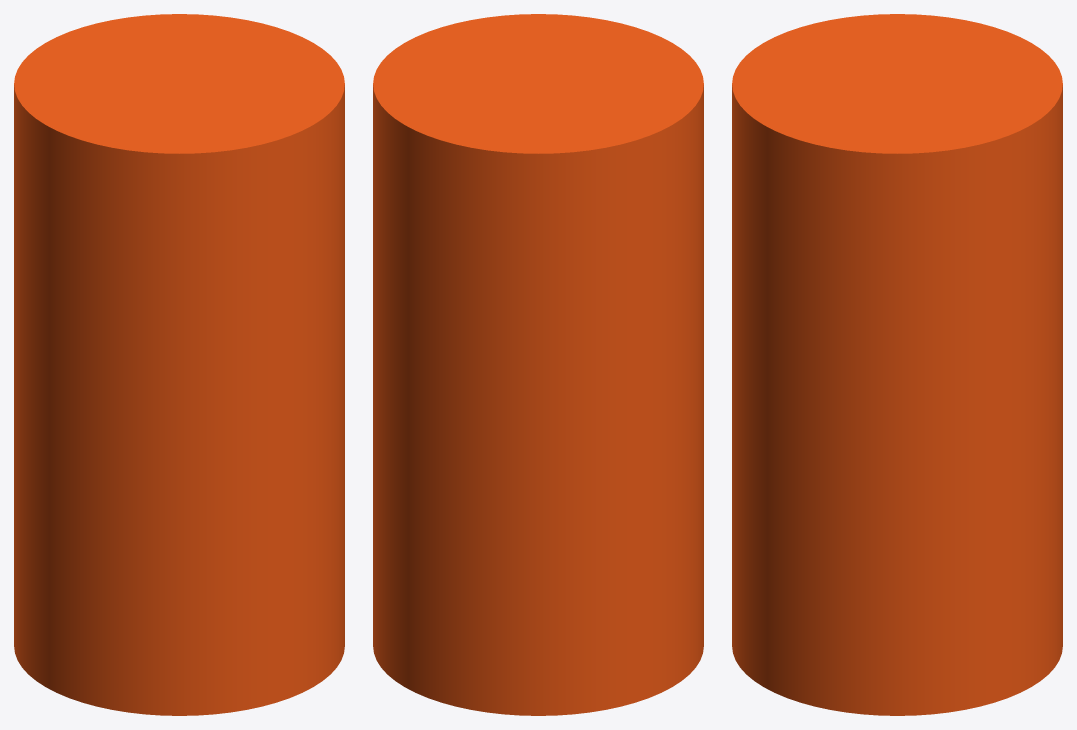
The model's file is Luleg.obj.
The picture shows the model from 3 angles, left to right: view 1: azimuth 30°, elevation 25°; view 2: azimuth 150°, elevation 25°; view 3: azimuth 270°, elevation 25°; orthographic projection.
Visible parts, largest first — view 1: pCylinder9; view 2: pCylinder9; view 3: pCylinder9.
Part boxes in pixels (box(x1,y1,x2,y2)): pCylinder9: box(14, 14, 344, 715); pCylinder9: box(373, 14, 703, 715); pCylinder9: box(732, 14, 1062, 715).
Bounding box in the file's own units: 0.5882 × 1.1 × 0.5882.
